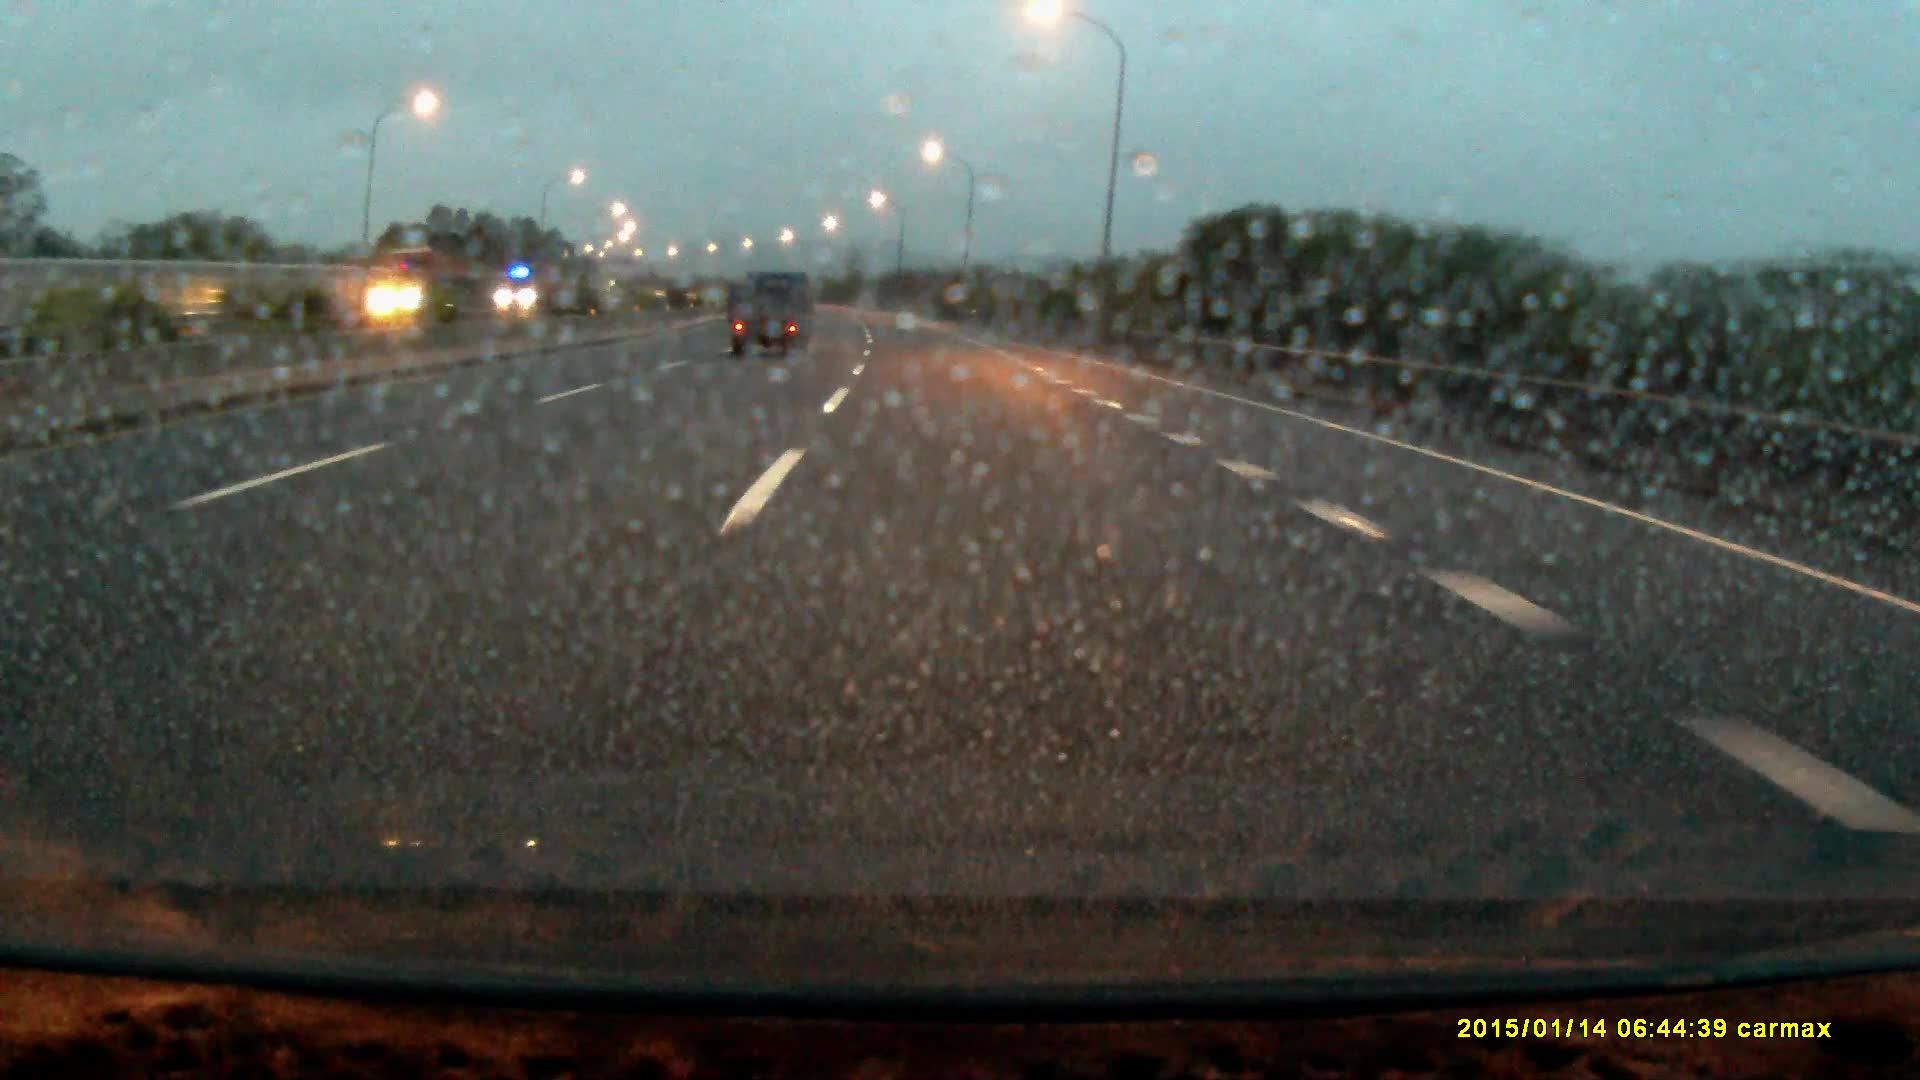vehicle: (372, 251, 480, 320), (731, 268, 811, 360), (497, 262, 567, 315)
